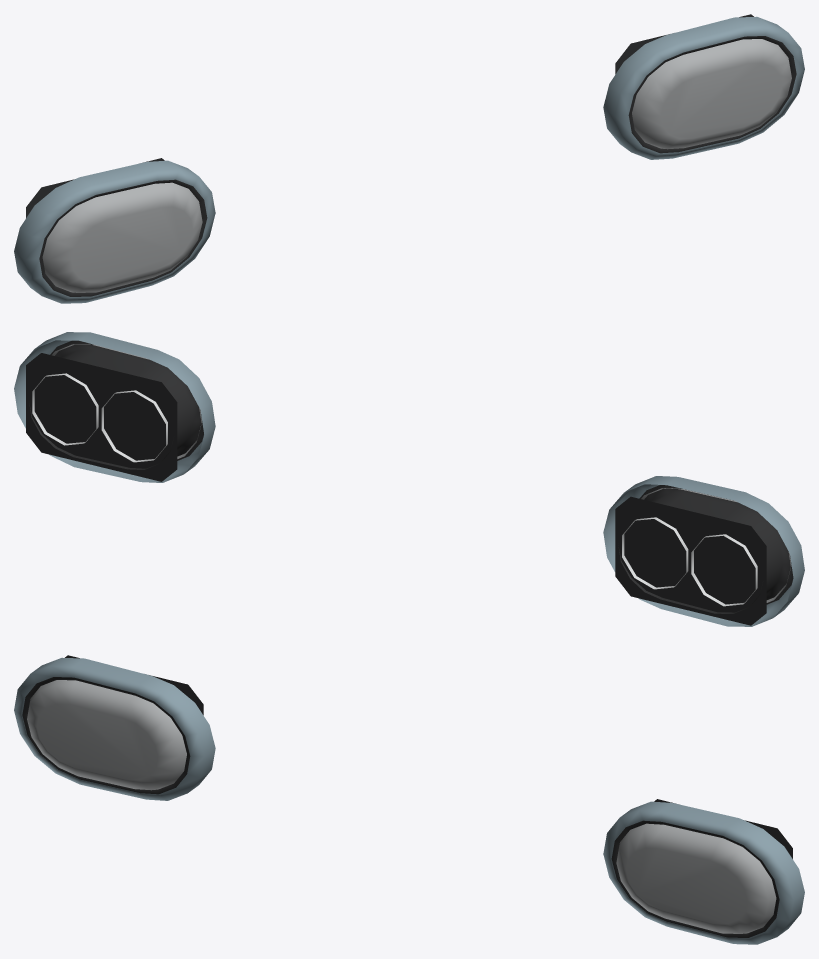
Rendered from Car_09_Headlight_Cool.fbx.
3 views of the same model, one above another, from view 1: azimuth 30°, elevation 25°; view 2: azimuth 150°, elevation 25°; view 3: azimuth 330°, elevation 25° (orthographic).
Visible parts, largest first — view 1: Car_09_Headlight_Cool; view 2: Car_09_Headlight_Cool; view 3: Car_09_Headlight_Cool.
Part boxes in pixels (x1,y1,x2,y2): Car_09_Headlight_Cool: [14, 14, 804, 303]; Car_09_Headlight_Cool: [14, 332, 804, 626]; Car_09_Headlight_Cool: [14, 655, 804, 944].
Bounding box in the file's own units: 147 × 11.28 × 22.
